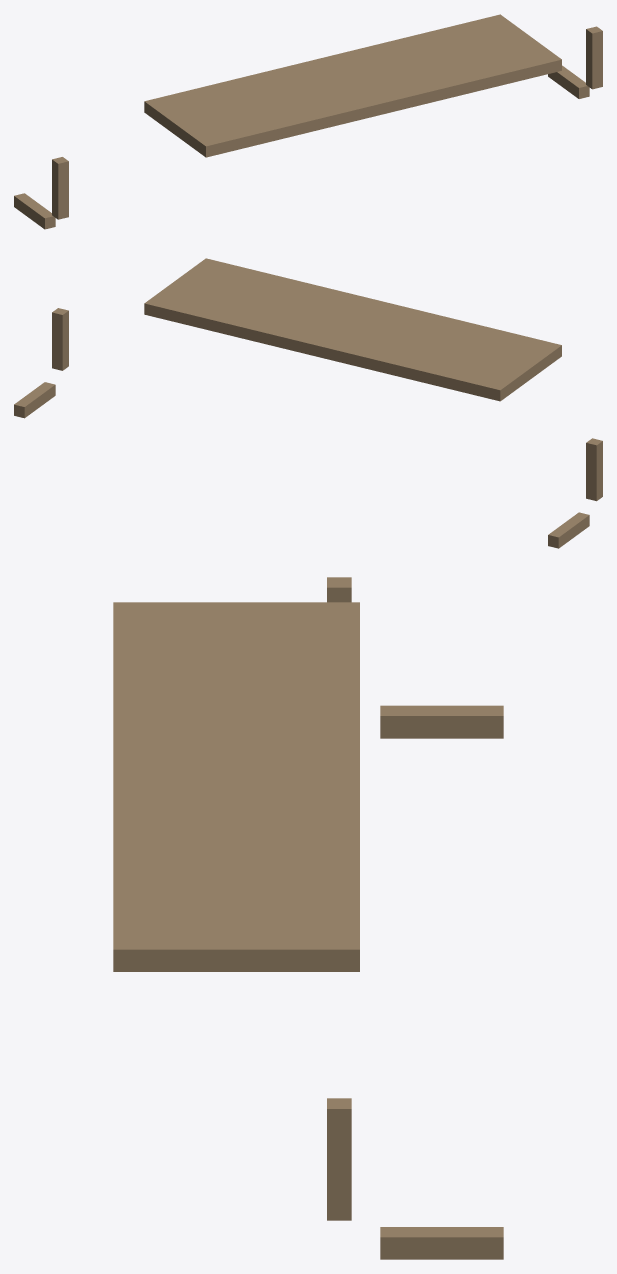
The model's file is kitchen_shelf.fbx.
The picture shows the model from 3 angles, top to bottom: view 1: azimuth 30°, elevation 25°; view 2: azimuth 150°, elevation 25°; view 3: azimuth 270°, elevation 25°; orthographic projection. The views are drawn at different scales.
Visible parts, largest first — view 1: kitchen_shelf; view 2: kitchen_shelf; view 3: kitchen_shelf.
Boxes of the visible parts, box(x1,y1,x2,y2) form: kitchen_shelf: box(14, 14, 602, 229); kitchen_shelf: box(14, 258, 602, 548); kitchen_shelf: box(113, 577, 503, 1259).
Size of the model in its own units: 0.612 by 0.117 by 0.19.
